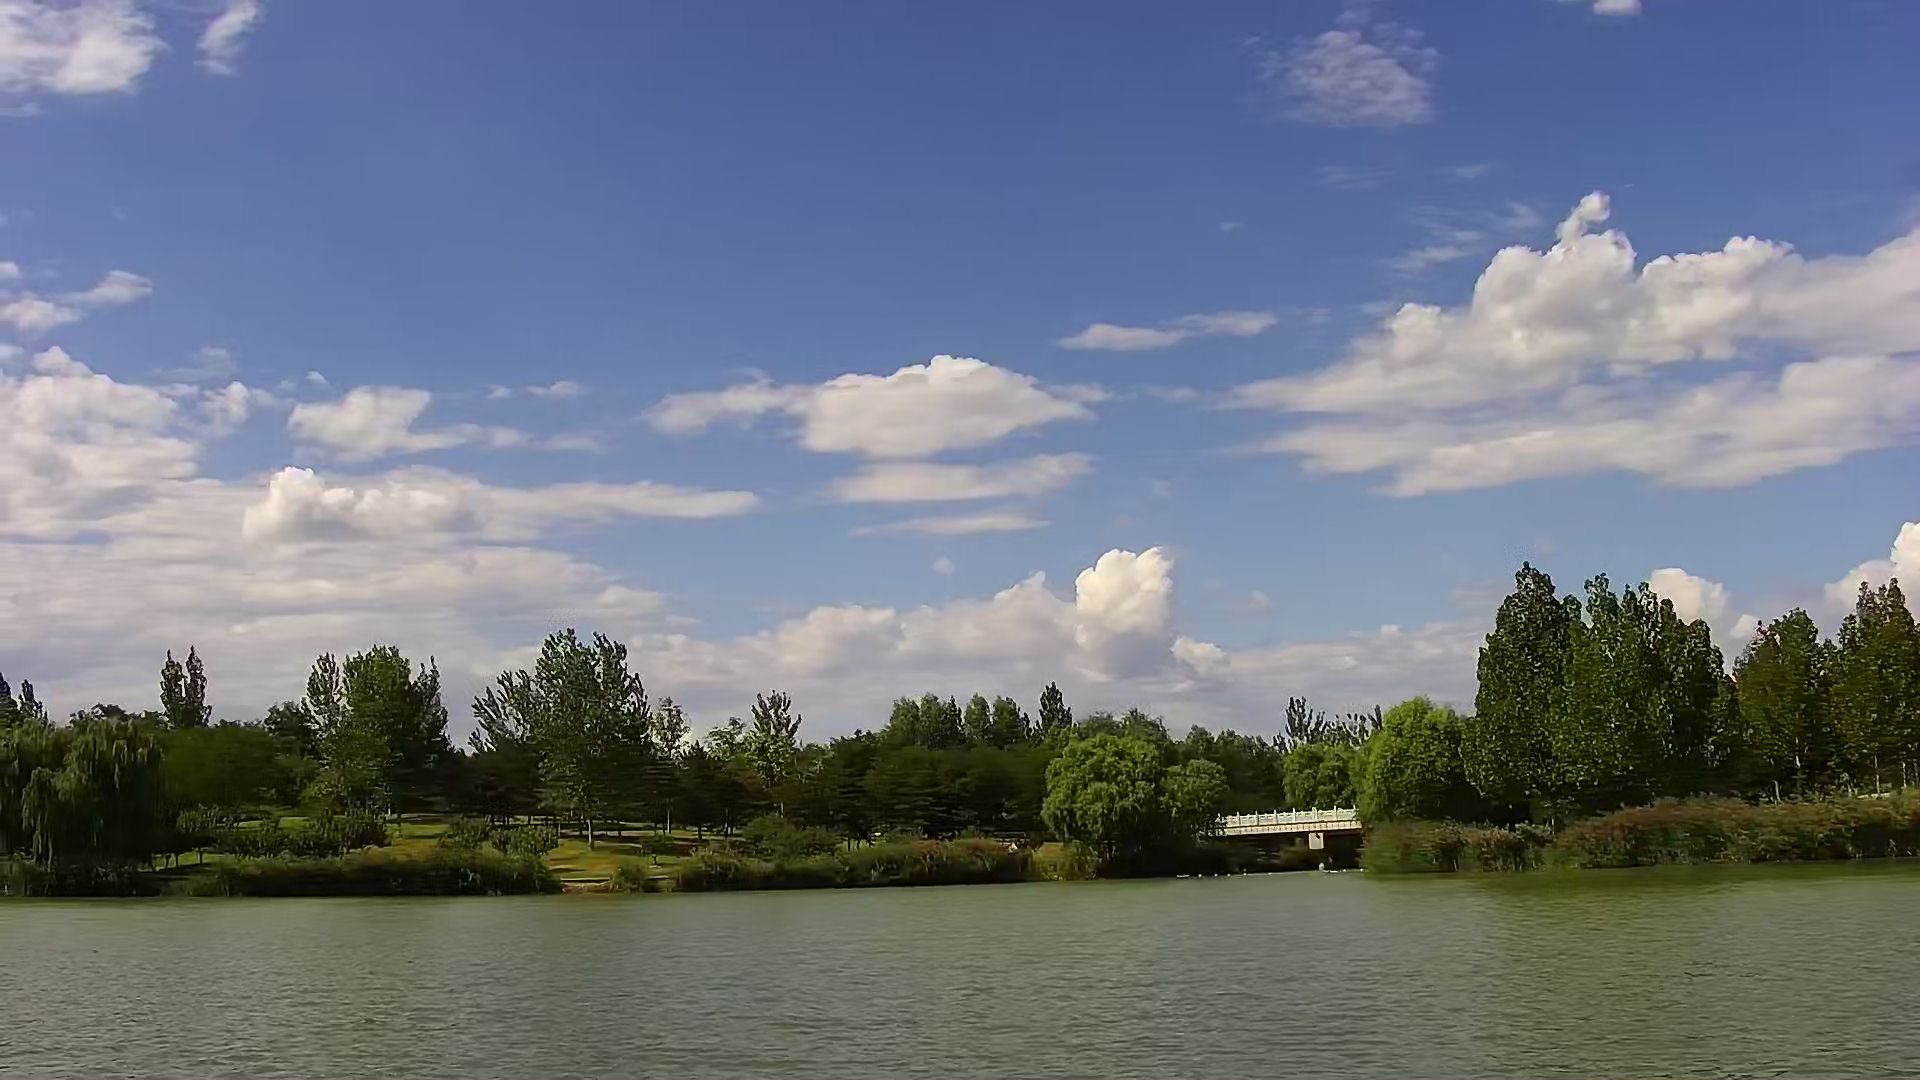bridge: (1222, 800, 1360, 872)
